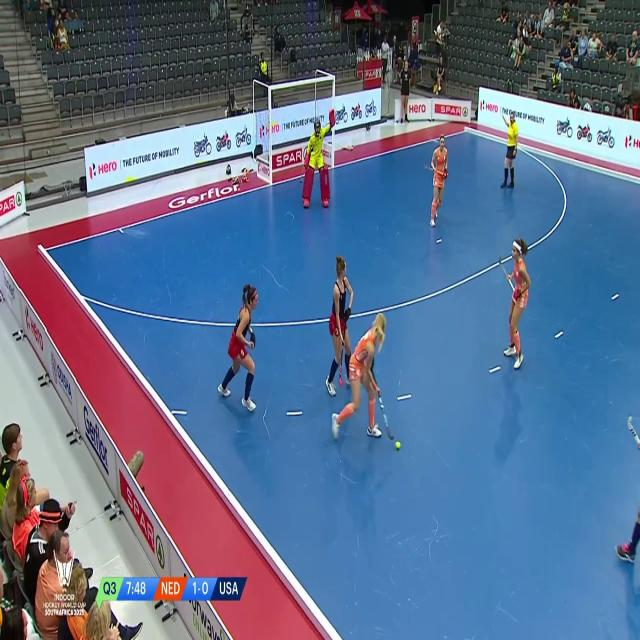ball: (392, 433, 403, 454)
